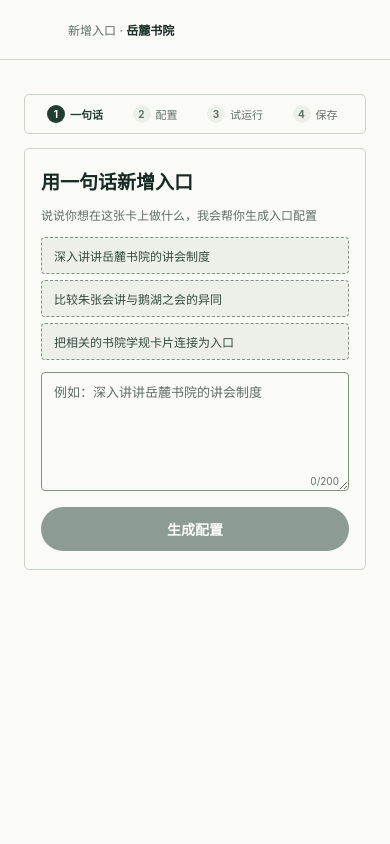
it: EntryCreateView(用一句话新增入口四步流,FR-N01–N05) › OUT_OF_SCOPE:就地给替代建议,不进配置步
In the text box with placeholder "例如：深入讲讲岳麓书院的讲会制度": (195, 432) [41,372,349,491], type "帮我订机票"
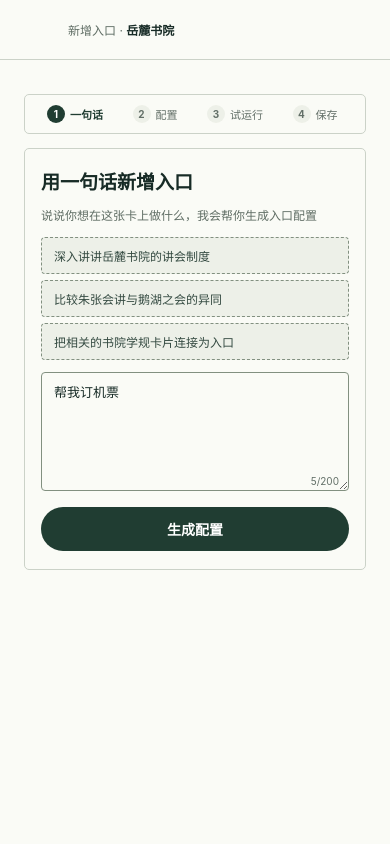
Click the button with test id "generate": (195, 529) [41,507,349,551]
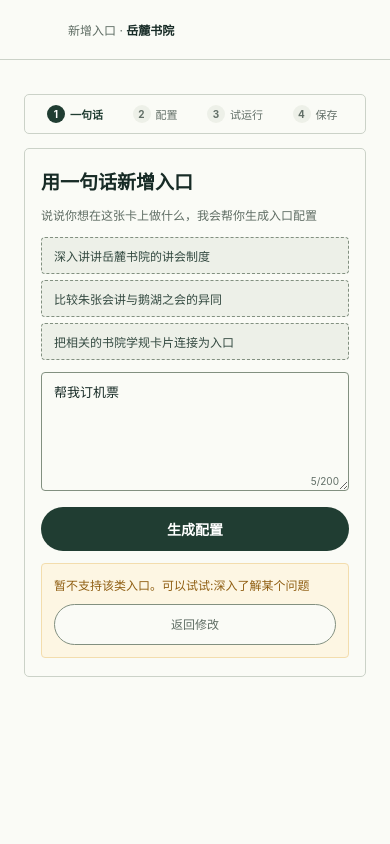
Now the message with class "advice" shows "暂不支持该类入口", box [54,578,310,593]
Now the button with class "ghost" reads "返回修改", box [54,604,336,645]
